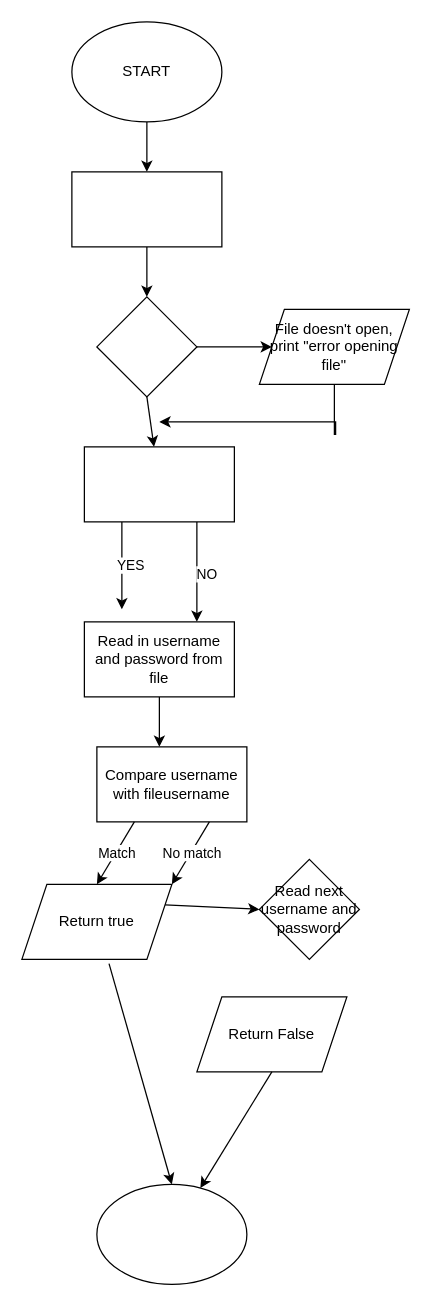
Image size: 431x1306. Some labels were removed from this diagram. Each missing label, with the centre of its shape:
END: (x=171, y=1233)
FILE MATCH?: (x=158, y=484)
Not File.is_open(): (x=146, y=346)
Open file with filename: (x=146, y=209)
